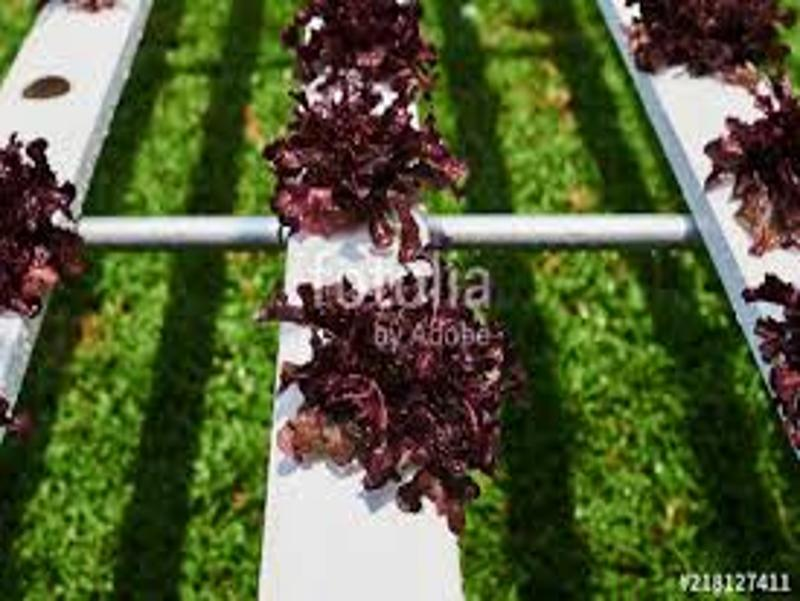red lettuce: (269, 263, 525, 524), (279, 88, 464, 247), (1, 135, 81, 314), (624, 2, 793, 83), (715, 91, 800, 249), (296, 6, 443, 83)
